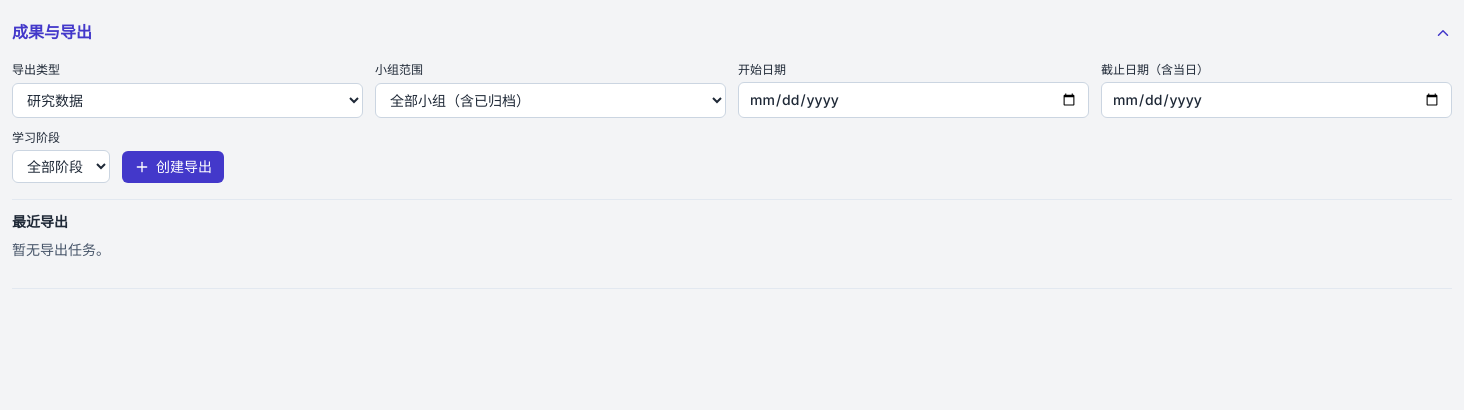
Test case: validates ranges and only submits filters supported by the selected profile
Earlier steps of the test are not shown.
Later steps or results of the test are not shown.
Select "指定小组" in the dropdown labelled "小组范围". click: {"x": 550, "y": 100}
box: [375,83,726,118]
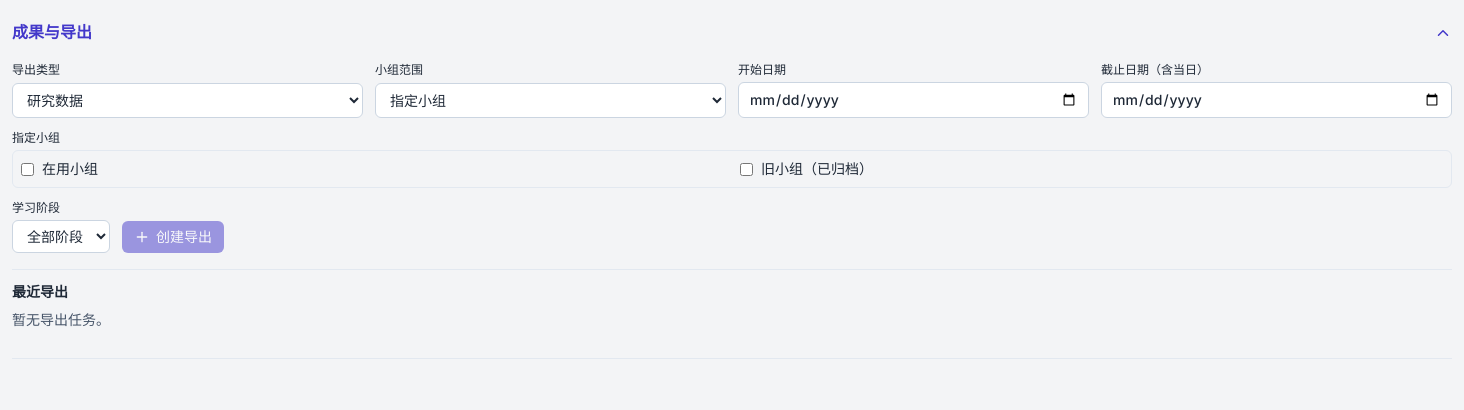
Expected: the button "创建导出" is disabled, [122,221,224,253]
Click the checkbox labelled "在用小组". click: {"x": 28, "y": 169}
box: [21,163,34,176]
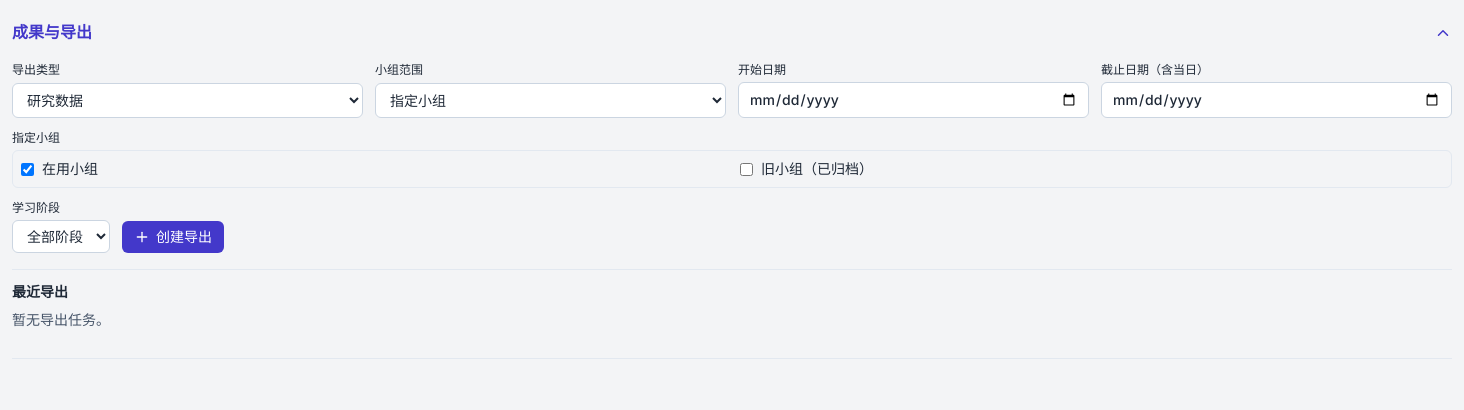
Click the checkbox labelled "旧小组（已归档）". click: {"x": 746, "y": 169}
box: [740,163,753,176]
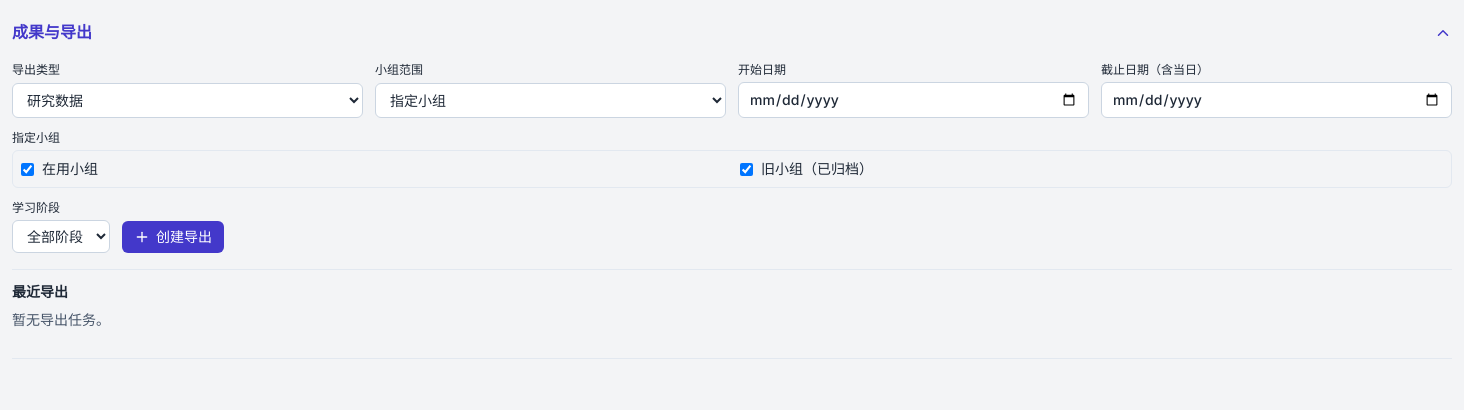
Type "2026-11-10" into the date field labelled "开始日期". click: {"x": 914, "y": 100}
box: [738,82,1089,118]
Type "2026-11-09" into the date field labelled "截止日期（含当日）". click: {"x": 1276, "y": 100}
box: [1101,82,1452,118]
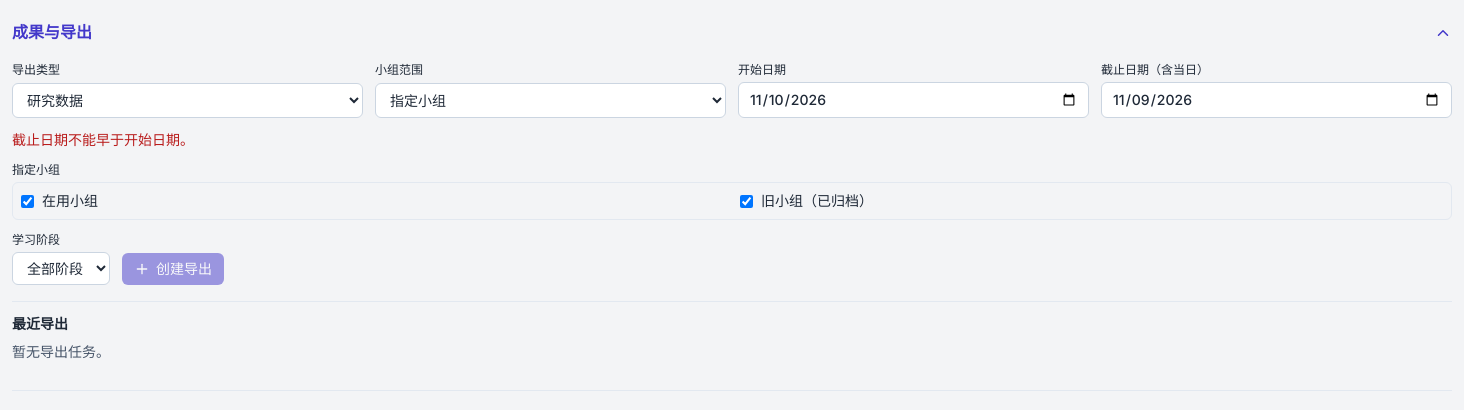
Expected: the button "创建导出" is disabled, [122,253,224,285]
Expected: the message reads "截止日期不能早于开始日期。", [12,131,194,148]
Type "2026-11-10" into the date field labelled "截止日期（含当日）". click: {"x": 1276, "y": 100}
box: [1101,82,1452,118]
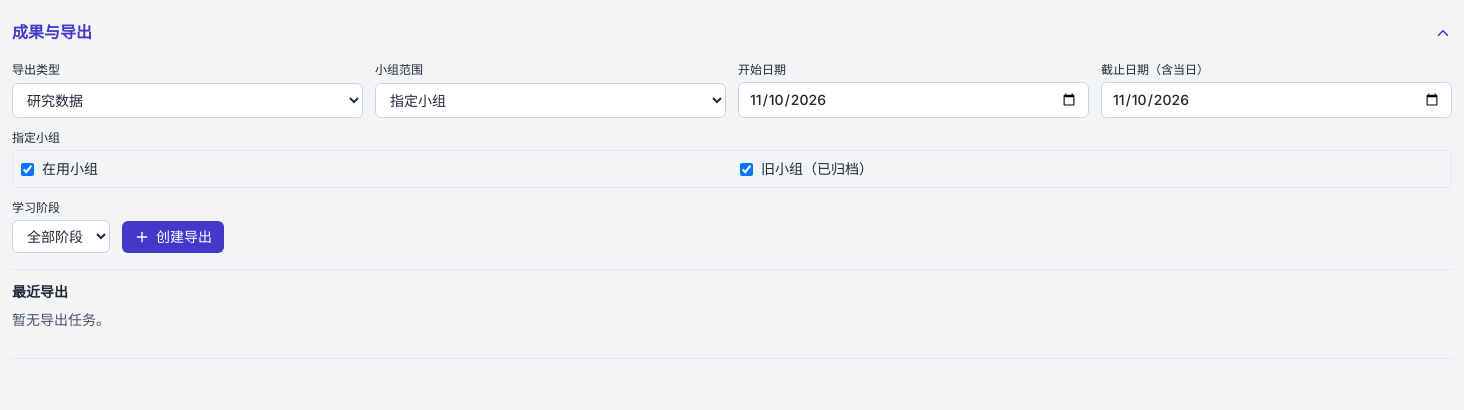
Select "解释整合" in the dropdown labelled "学习阶段". click: {"x": 61, "y": 236}
box: [12,220,110,253]
Click the button "创建导出". click: {"x": 173, "y": 237}
box: [122,221,224,253]
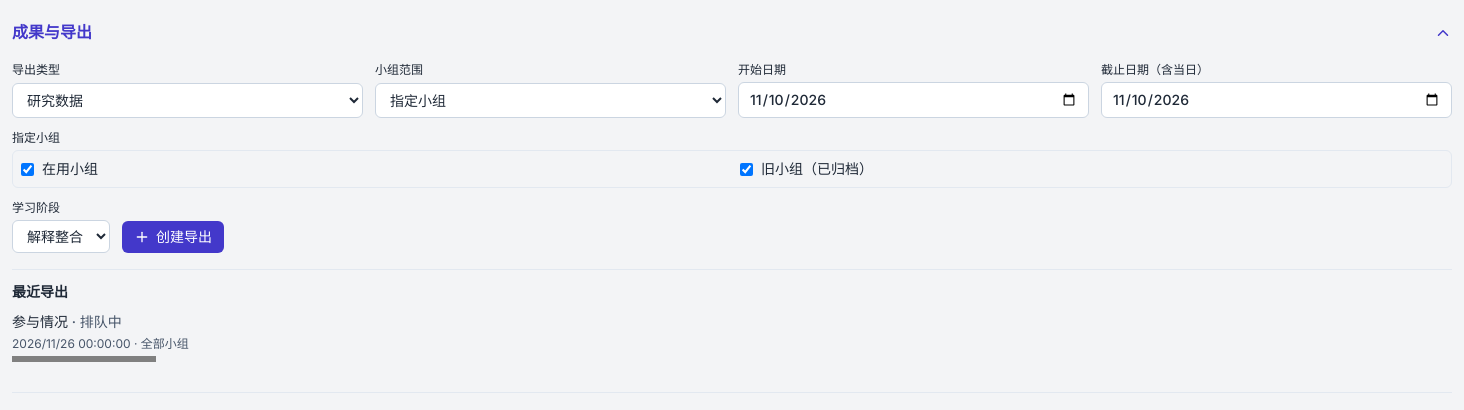
Expected: the button "创建导出" is enabled, [122,221,224,253]
